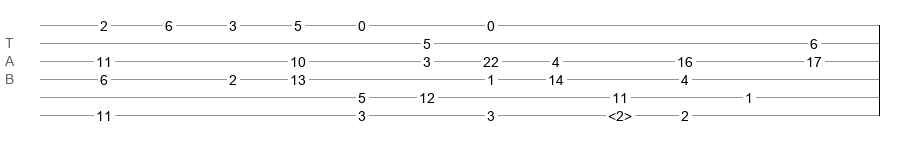0: (358, 18, 366, 28), (487, 18, 495, 28)
1: (487, 72, 495, 82), (745, 90, 753, 100)
10: (290, 54, 306, 64)
11: (96, 54, 112, 64), (96, 108, 112, 118), (612, 90, 628, 100)
12: (419, 90, 435, 100)
13: (290, 72, 306, 82)
14: (548, 72, 564, 82)
16: (677, 54, 693, 64)
17: (806, 54, 822, 64)
2: (100, 18, 108, 28), (229, 72, 237, 82), (681, 108, 689, 118)
22: (483, 54, 499, 64)
3: (229, 18, 237, 28), (358, 108, 366, 118), (423, 54, 431, 64), (487, 108, 495, 118)
4: (552, 54, 560, 64), (681, 72, 689, 82)
5: (294, 18, 302, 28), (358, 90, 366, 100), (423, 36, 431, 46)
6: (100, 72, 108, 82), (165, 18, 173, 28), (810, 36, 818, 46)
harmonic: (608, 108, 632, 118)
